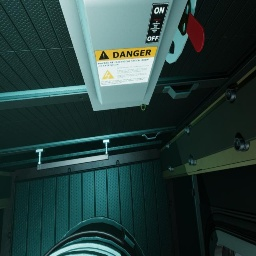SafetySwitchPanel ,: (59, 0, 205, 111)
